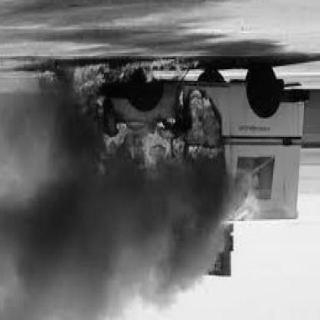Fire: (37, 57, 226, 189)
Smoke: (3, 188, 244, 320)
